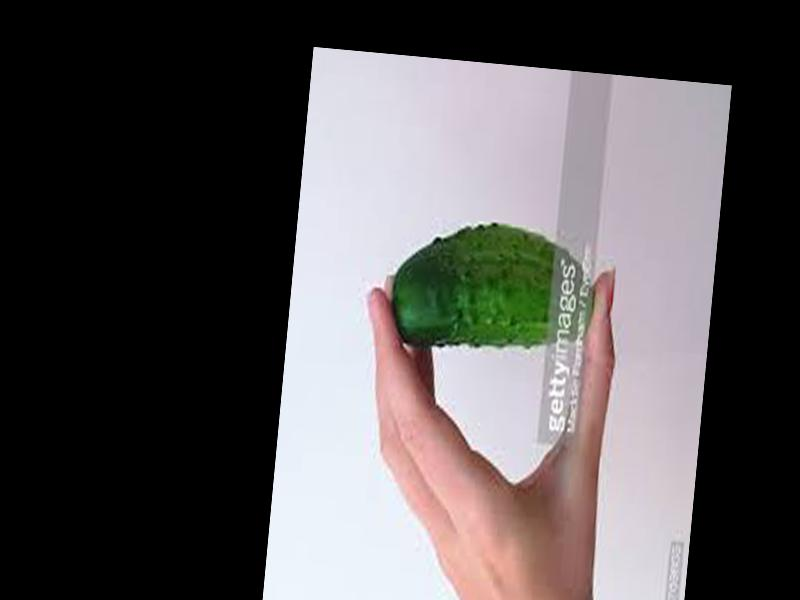Cucumber: (387, 213, 600, 360)
